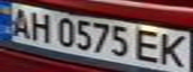0: (51, 15, 78, 47)
5: (109, 22, 136, 60), (72, 18, 93, 52)
7: (90, 20, 112, 55)
A: (3, 4, 33, 38)
E: (133, 27, 166, 64)
H: (24, 9, 54, 43)
K: (154, 31, 190, 69)
